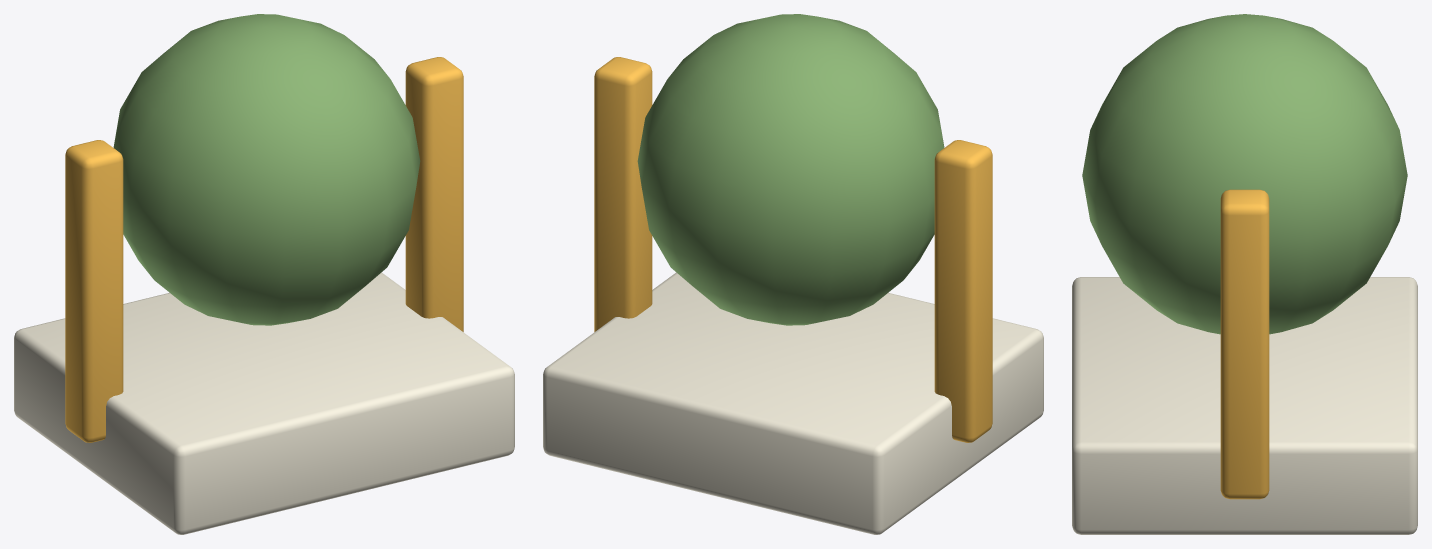
Rendered from research-landmark.glb.
The picture shows the model from 3 angles, left to right: view 1: azimuth 30°, elevation 25°; view 2: azimuth 150°, elevation 25°; view 3: azimuth 270°, elevation 25°; orthographic projection. The views are drawn at different scales.
Parts seen in each view (by area): view 1: lab plinth, sample globe, lab pillar, lab pillar.001; view 2: lab plinth, sample globe, lab pillar, lab pillar.001; view 3: sample globe, lab plinth, lab pillar.001.
Part boxes in pixels (x1,y1,x2,y2): lab plinth: (14,272,514,534); sample globe: (113,14,420,325); lab pillar: (65,140,123,442); lab pillar.001: (405,57,463,331); lab plinth: (543,272,1043,534); sample globe: (637,14,944,325); lab pillar: (934,140,992,442); lab pillar.001: (594,57,652,331); sample globe: (1082,14,1407,334); lab plinth: (1072,277,1417,534); lab pillar.001: (1220,189,1269,499).
Bounding box in the file's own units: 2.24 × 2.3 × 1.7.
